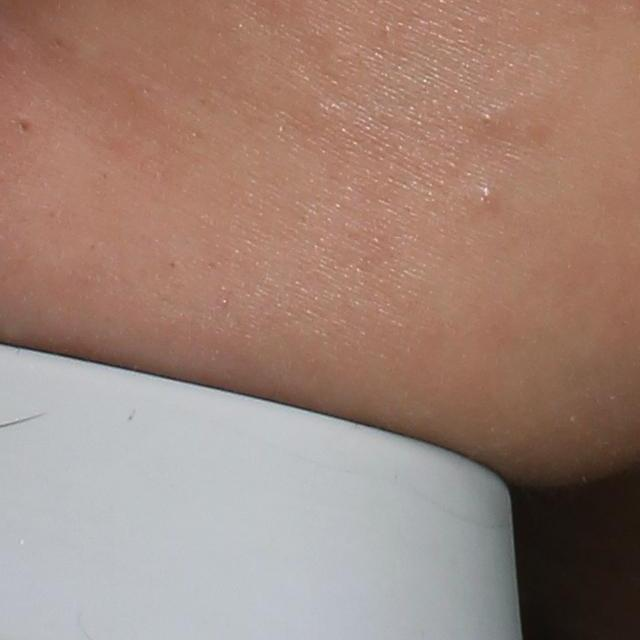comedo: (474, 182, 495, 208), (12, 114, 35, 137), (479, 110, 493, 127)
